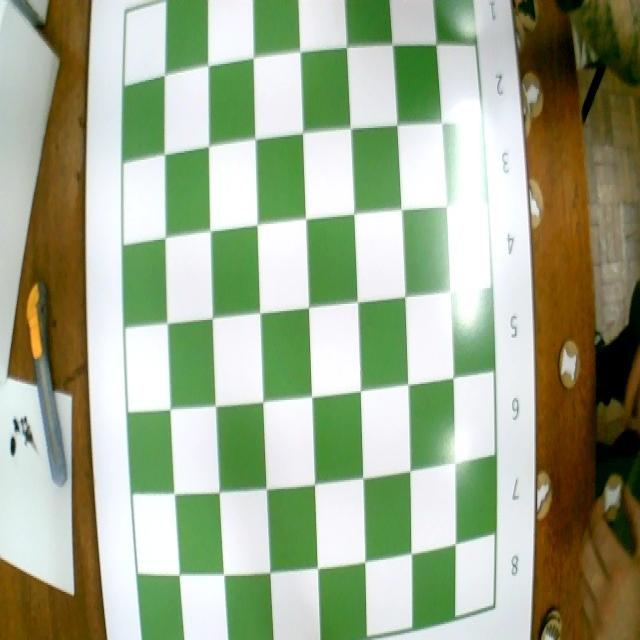chess-pieces: (556, 336, 583, 390)
